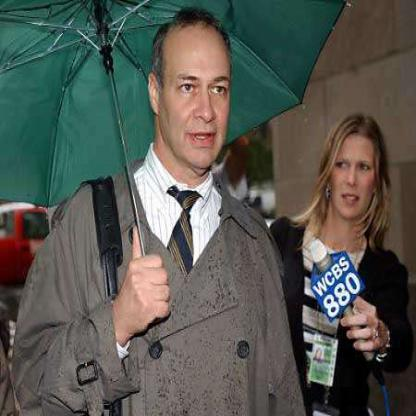face: (158, 14, 237, 171), (330, 115, 382, 221)
